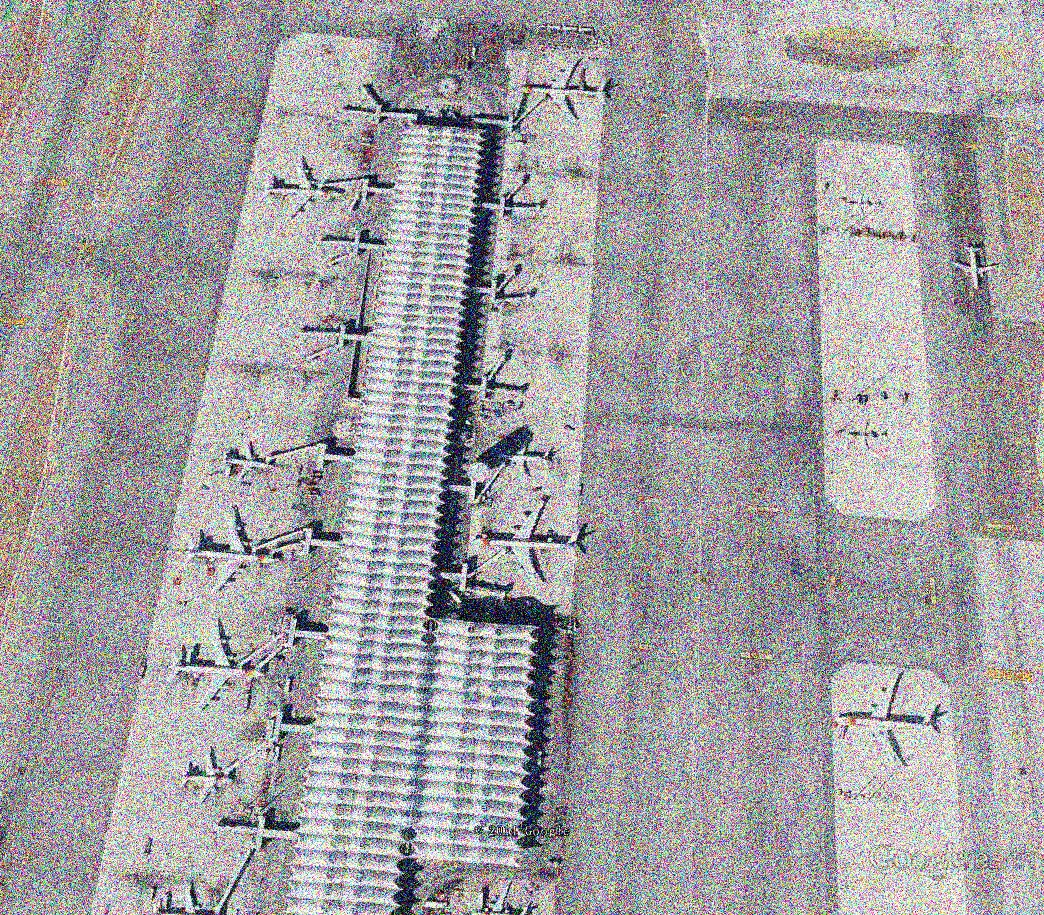aircraft: (830, 668, 945, 776), (161, 619, 271, 722), (467, 498, 584, 592), (181, 509, 287, 601), (515, 55, 611, 125), (259, 155, 347, 227), (176, 743, 241, 811), (492, 430, 555, 488), (216, 439, 279, 485), (950, 243, 1000, 292), (844, 190, 887, 222)
